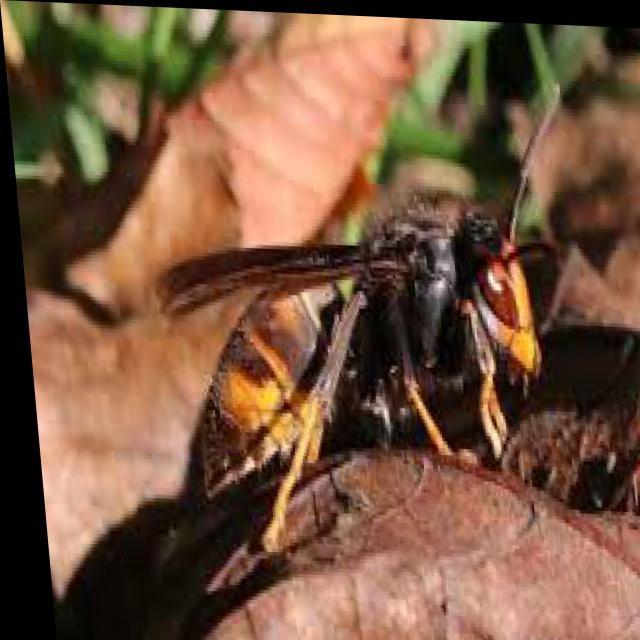Vespa Velutina: (123, 57, 599, 571)
